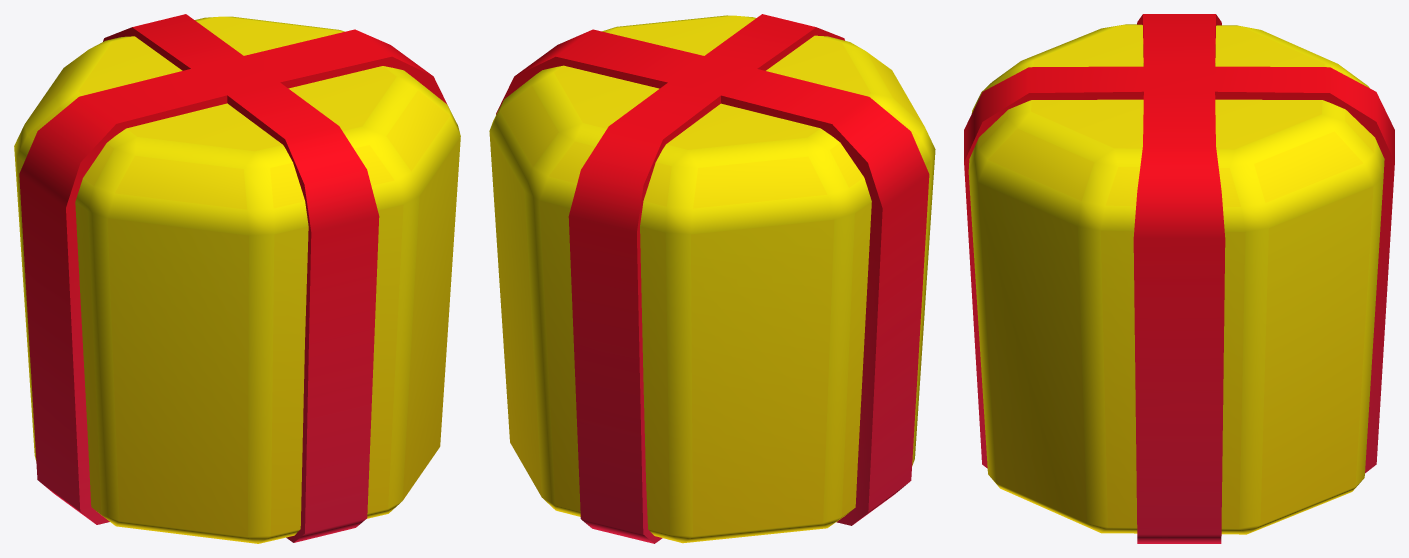
Rendered from giftbox_051.fbx.
3 renders of one model, left to right at view 1: azimuth 30°, elevation 25°; view 2: azimuth 150°, elevation 25°; view 3: azimuth 270°, elevation 25°, orthographic.
Visible parts, largest first — view 1: giftbox_051; view 2: giftbox_051; view 3: giftbox_051.
Boxes of the visible parts, x1,y1,x2,y2 form: giftbox_051: (14, 14, 460, 543); giftbox_051: (489, 14, 935, 543); giftbox_051: (964, 14, 1394, 543).
Bounding box in the file's own units: 236 × 232 × 231.
